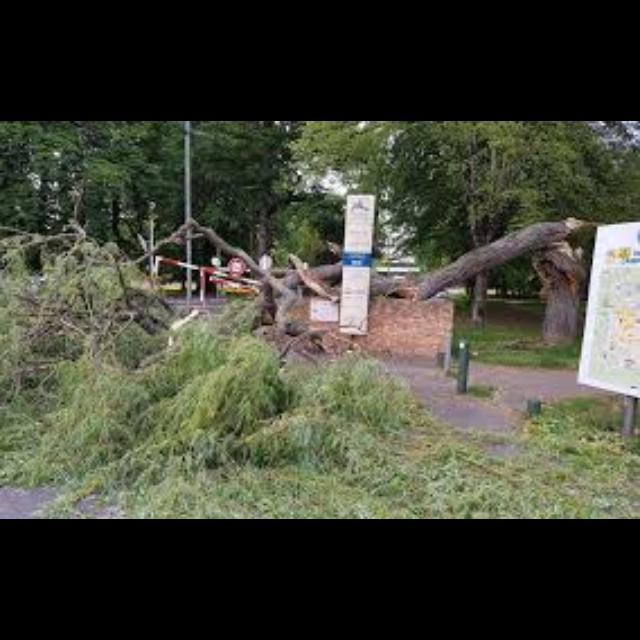Fallen Tree: (96, 222, 347, 354), (412, 210, 596, 300)
